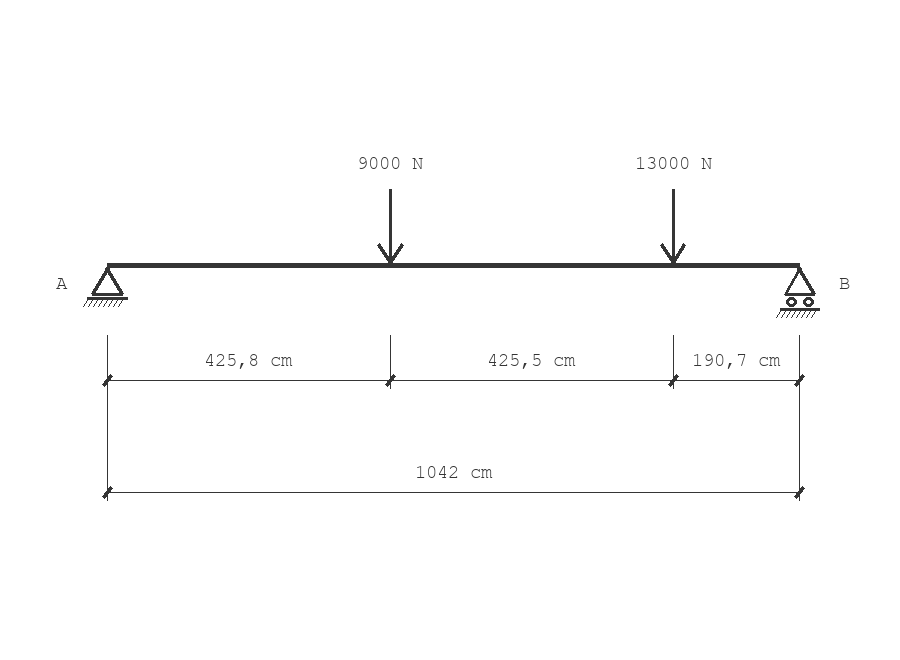pin_support: (83, 267, 128, 307)
point_load: (377, 189, 404, 264), (660, 189, 686, 264)
roller_support: (776, 267, 820, 318)
